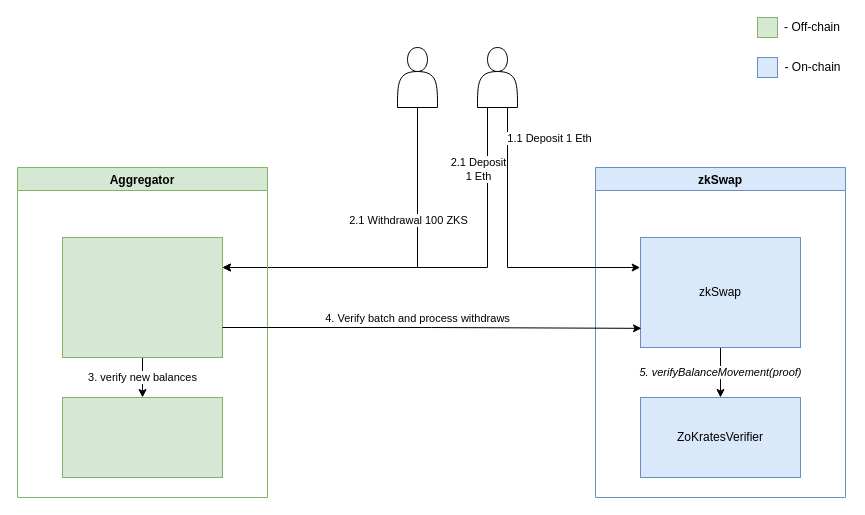
This 865x515 diagram has some shape labels left out. The centre of each missing label's shape, as x and y in pixels:
Aggregation Server: the point at 142,297
ProcessBalanceMovement ZoKrates program: the point at 142,437
